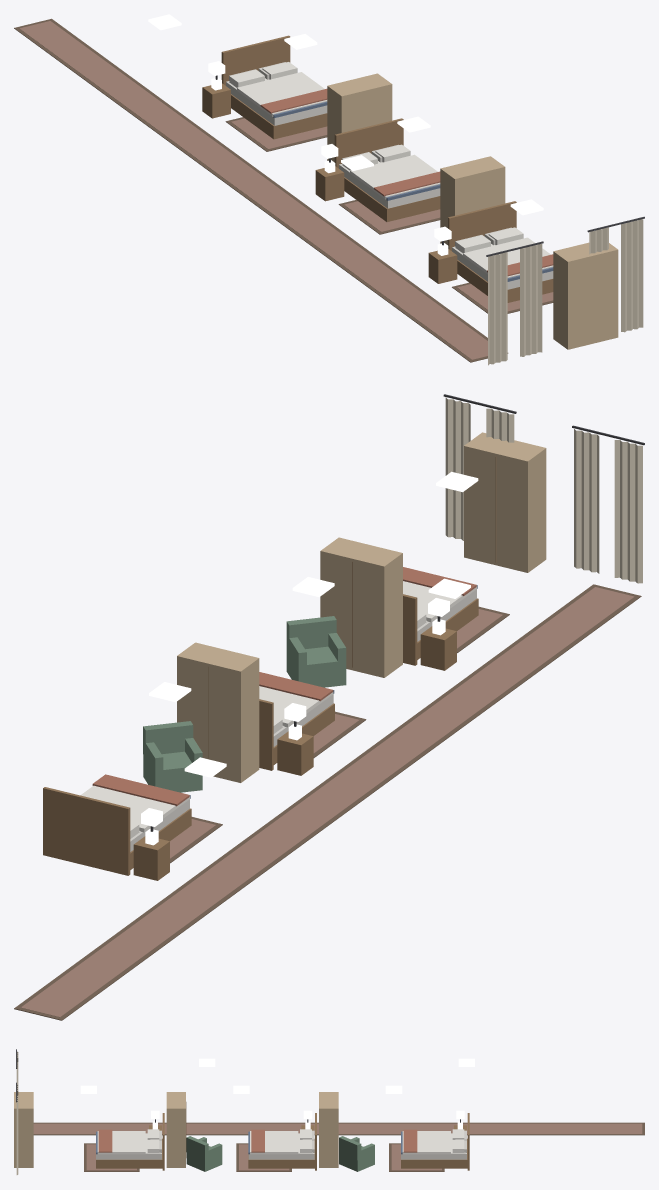
Rendered from fine-s1.glb.
The picture shows the model from 3 angles, top to bottom: view 1: azimuth 30°, elevation 25°; view 2: azimuth 150°, elevation 25°; view 3: azimuth 270°, elevation 25°; orthographic projection. The views are drawn at different scales.
Parts seen in each view (by area): view 1: soft-s1, dresser.002, bed-frame.000, bed-frame.001, dresser.001, dresser.000, bed-frame.002, nightstand.002, nightstand.001, nightstand.000; view 2: soft-s1, dresser.002, dresser.001, dresser.000, bed-frame.000, lounge-chair.001, lounge-chair.000, bed-frame.001, bed-frame.002, nightstand.000, nightstand.002, nightstand.001; view 3: soft-s1, dresser.001, dresser.000, dresser.002, bed-frame.002, bed-frame.000, bed-frame.001, lounge-chair.001, lounge-chair.000.
Boxes of the visible parts, x1,y1,x2,y2 form: soft-s1: (14, 18, 644, 365); dresser.002: (553, 242, 618, 349); bed-frame.000: (221, 35, 327, 139); bed-frame.001: (334, 118, 440, 221); dresser.001: (440, 156, 505, 244); dresser.000: (327, 73, 392, 162); bed-frame.002: (448, 201, 553, 302); nightstand.002: (428, 243, 457, 283); nightstand.001: (315, 160, 344, 201); nightstand.000: (202, 77, 230, 118); soft-s1: (14, 394, 644, 1020); dresser.002: (464, 432, 546, 572); dresser.001: (320, 537, 402, 677); dresser.000: (177, 642, 259, 782); bed-frame.000: (43, 787, 191, 875); lounge-chair.001: (286, 616, 346, 687); lounge-chair.000: (143, 721, 202, 792); bed-frame.001: (259, 690, 334, 770); bed-frame.002: (403, 585, 478, 665); nightstand.000: (133, 828, 169, 880); nightstand.002: (420, 618, 456, 670); nightstand.001: (277, 723, 313, 775); soft-s1: (16, 1049, 644, 1174); dresser.001: (166, 1092, 186, 1167); dresser.000: (319, 1092, 338, 1167); dresser.002: (14, 1092, 33, 1167); bed-frame.002: (96, 1113, 164, 1170); bed-frame.000: (401, 1113, 469, 1170); bed-frame.001: (248, 1113, 316, 1170); lounge-chair.001: (186, 1136, 222, 1171); lounge-chair.000: (339, 1136, 374, 1171).
Bounding box in the file's own units: 3.92 × 2.56 × 19.28.
